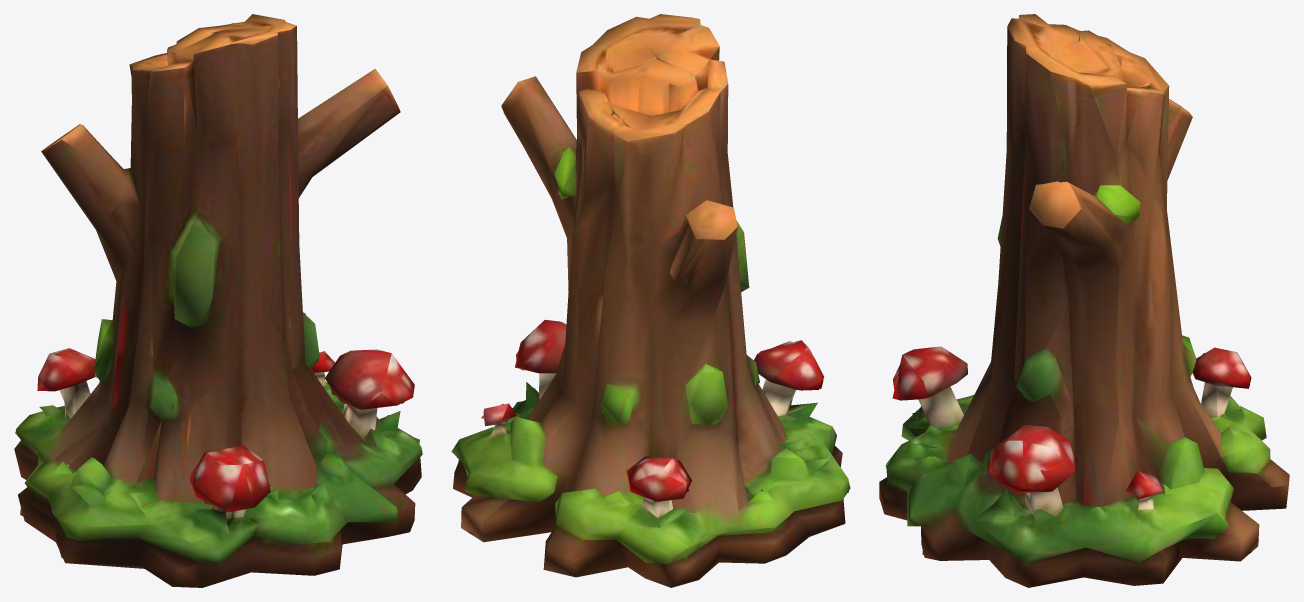
The model's file is sz-fallen-log.glb.
3 renders of one model, left to right at view 1: azimuth 30°, elevation 25°; view 2: azimuth 150°, elevation 25°; view 3: azimuth 270°, elevation 25°, orthographic. The views are drawn at different scales.
Visible parts, largest first — view 1: geometry_0; view 2: geometry_0; view 3: geometry_0.
Boxes of the visible parts, x1,y1,x2,y2 form: geometry_0: (14, 14, 422, 587); geometry_0: (451, 14, 850, 587); geometry_0: (879, 14, 1289, 587).
Bounding box in the file's own units: 0.7675 × 1 × 0.7764.
1 material, 1 textured.
